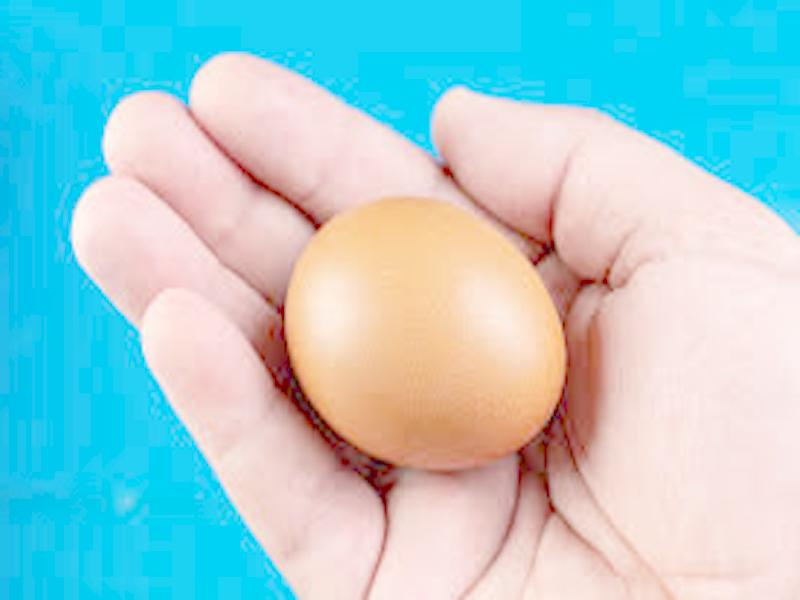Eggs: (281, 197, 563, 462)
